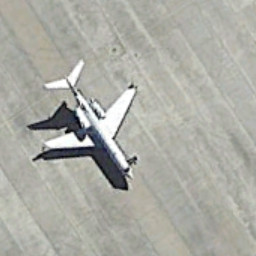Airplane: (26, 52, 151, 203)
